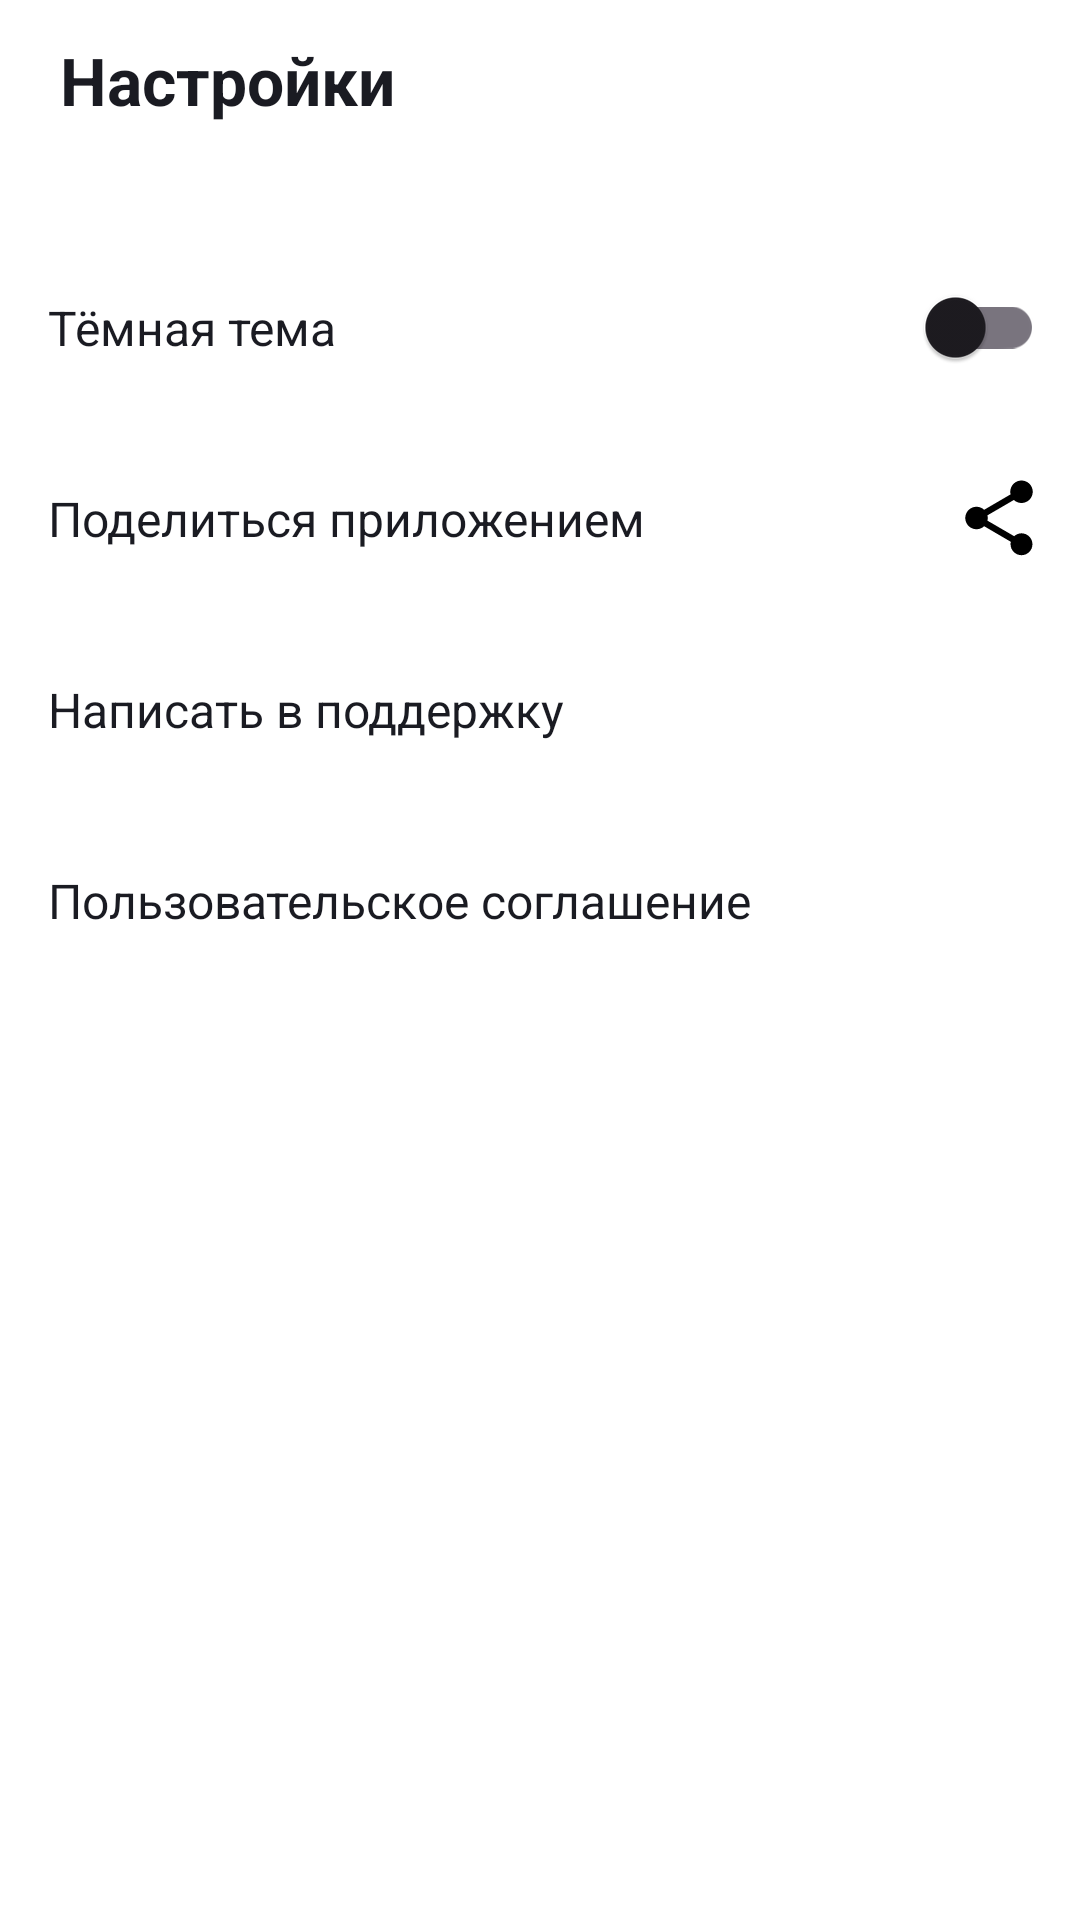

Icons on this 1080x1920 Android screen, each with its box as region(x1, y1, x2, y2):
share: region(965, 480, 1033, 556)
